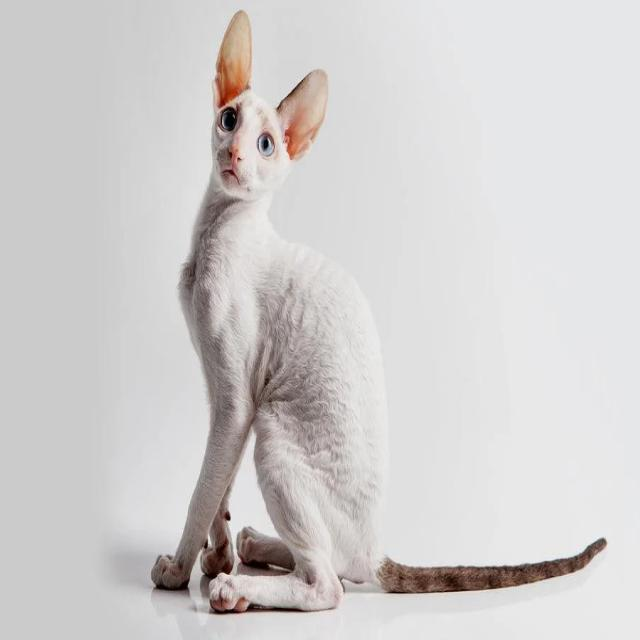Cornish Rex: (146, 3, 610, 622)
